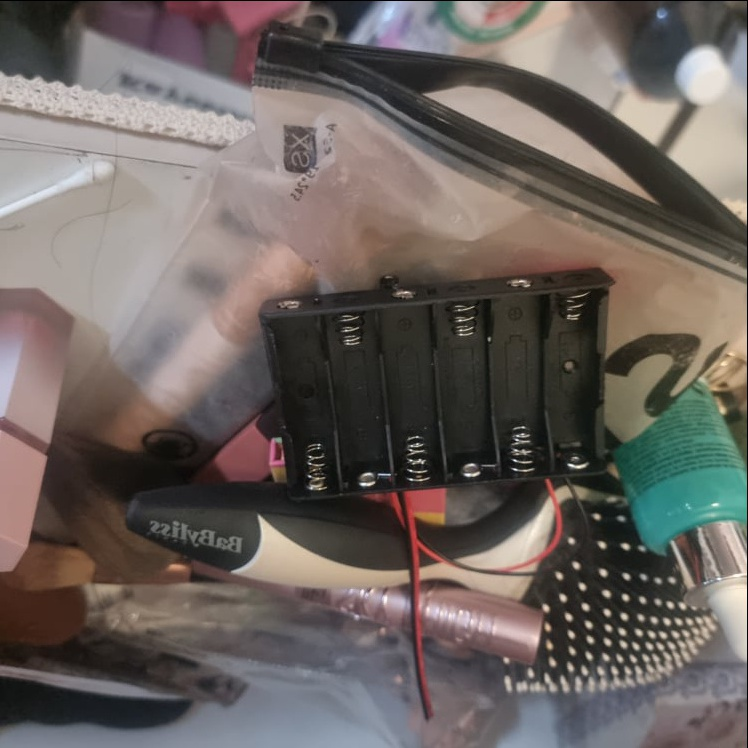BATTERY BOX: (260, 264, 619, 499)
